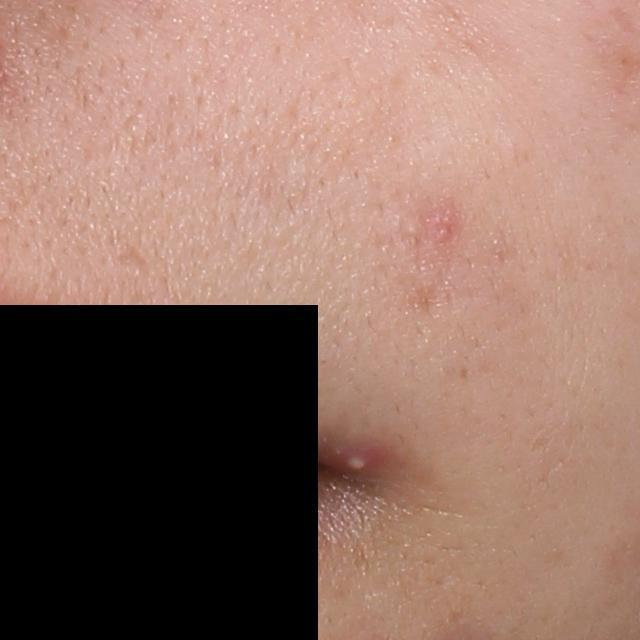papule: (425, 211, 457, 246)
pustule: (343, 450, 374, 473)
